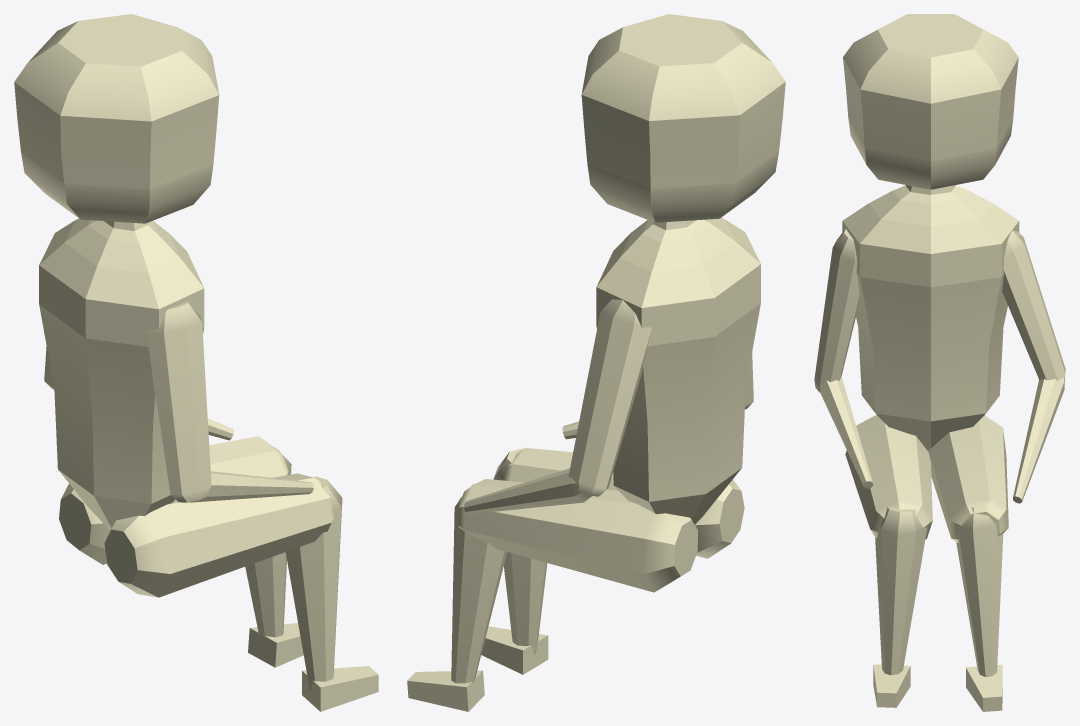
Rendered from character.fbx.
3 renders of one model, left to right at view 1: azimuth 30°, elevation 25°; view 2: azimuth 150°, elevation 25°; view 3: azimuth 270°, elevation 25°, orthographic. The views are drawn at different scales.
Visible parts, largest first — view 1: human_character; view 2: human_character; view 3: human_character.
Part boxes in pixels (box(x1,y1,x2,y2)): human_character: box(14, 14, 378, 711); human_character: box(407, 14, 785, 711); human_character: box(814, 14, 1065, 711).
Size of the model in its own units: 343 by 709 by 277.
Materials: 1 (1 with a texture image).
